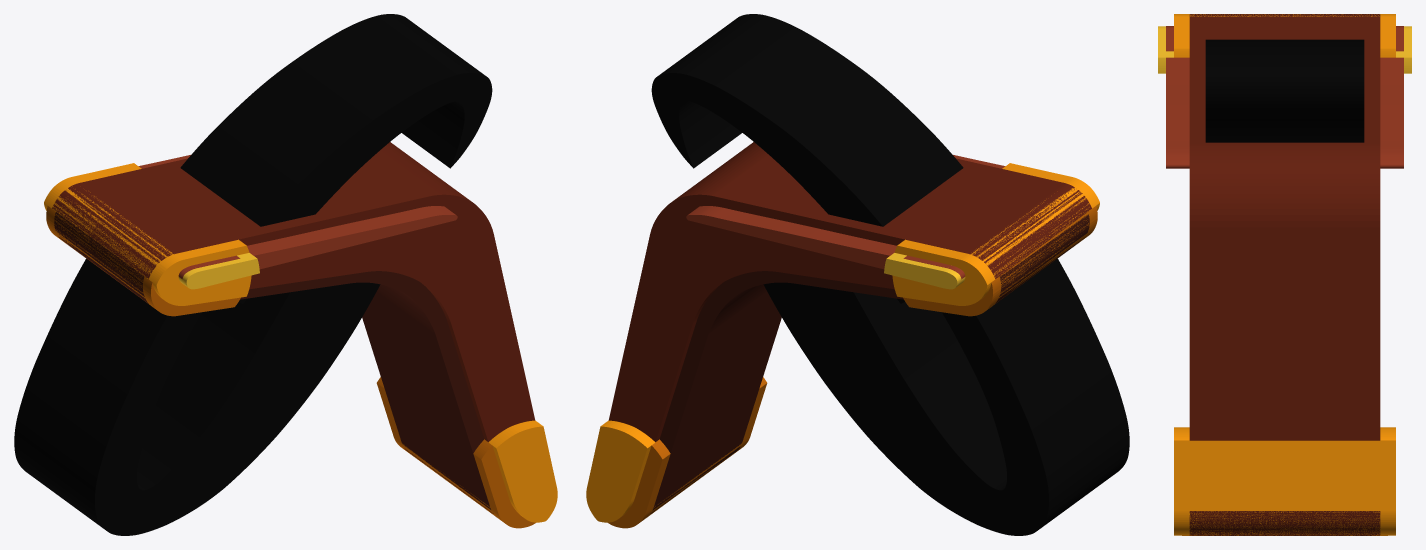
3 views of the same model, side by side, from view 1: azimuth 30°, elevation 25°; view 2: azimuth 150°, elevation 25°; view 3: azimuth 270°, elevation 25° (orthographic).
Parts seen in each view (by area): view 1: U+1FA83_layer00_obj00, U+1FA83_layer02_obj00, U+1FA83_layer00_obj01, U+1FA83_layer01_obj00, U+1FA83_layer04_obj00, U+1FA83_layer05_obj00, U+1FA83_layer04_obj01, U+1FA83_layer03_obj00, U+1FA83_layer03_obj01, U+1FA83_layer06_obj00; view 2: U+1FA83_layer00_obj00, U+1FA83_layer02_obj00, U+1FA83_layer00_obj01, U+1FA83_layer01_obj00, U+1FA83_layer04_obj00, U+1FA83_layer05_obj00, U+1FA83_layer04_obj01, U+1FA83_layer03_obj00, U+1FA83_layer03_obj01, U+1FA83_layer06_obj00; view 3: U+1FA83_layer02_obj00, U+1FA83_layer04_obj01, U+1FA83_layer00_obj01, U+1FA83_layer05_obj00, U+1FA83_layer04_obj00, U+1FA83_layer06_obj00.
Boxes of the visible parts, box(x1,y1,x2,y2) form: U+1FA83_layer00_obj00: box(14, 258, 380, 535); U+1FA83_layer02_obj00: box(52, 142, 535, 442); U+1FA83_layer00_obj01: box(180, 14, 492, 303); U+1FA83_layer01_obj00: box(54, 212, 493, 513); U+1FA83_layer04_obj00: box(44, 163, 251, 305); U+1FA83_layer05_obj00: box(138, 155, 457, 279); U+1FA83_layer04_obj01: box(484, 420, 557, 522); U+1FA83_layer03_obj00: box(376, 377, 535, 528); U+1FA83_layer03_obj01: box(46, 206, 240, 316); U+1FA83_layer06_obj00: box(178, 253, 259, 289); U+1FA83_layer00_obj00: box(763, 258, 1129, 535); U+1FA83_layer02_obj00: box(608, 142, 1091, 442); U+1FA83_layer00_obj01: box(651, 14, 963, 303); U+1FA83_layer01_obj00: box(650, 214, 1089, 513); U+1FA83_layer04_obj00: box(892, 163, 1099, 305); U+1FA83_layer05_obj00: box(686, 155, 1005, 279); U+1FA83_layer04_obj01: box(586, 420, 659, 522); U+1FA83_layer03_obj00: box(608, 377, 767, 528); U+1FA83_layer03_obj01: box(903, 206, 1097, 316); U+1FA83_layer06_obj00: box(884, 253, 965, 289); U+1FA83_layer02_obj00: box(1189, 14, 1380, 535); U+1FA83_layer04_obj01: box(1174, 427, 1395, 535); U+1FA83_layer00_obj01: box(1205, 39, 1364, 142); U+1FA83_layer05_obj00: box(1166, 26, 1403, 168); U+1FA83_layer04_obj00: box(1174, 14, 1395, 57); U+1FA83_layer06_obj00: box(1158, 26, 1411, 73).
Size of the model in its own units: 0.3202 by 0.3133 by 0.16.
